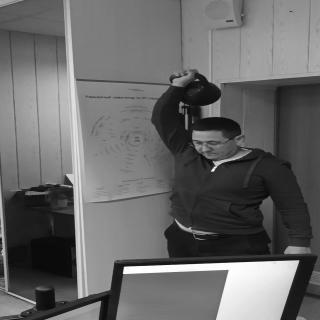kettlebell: (169, 73, 225, 108)
